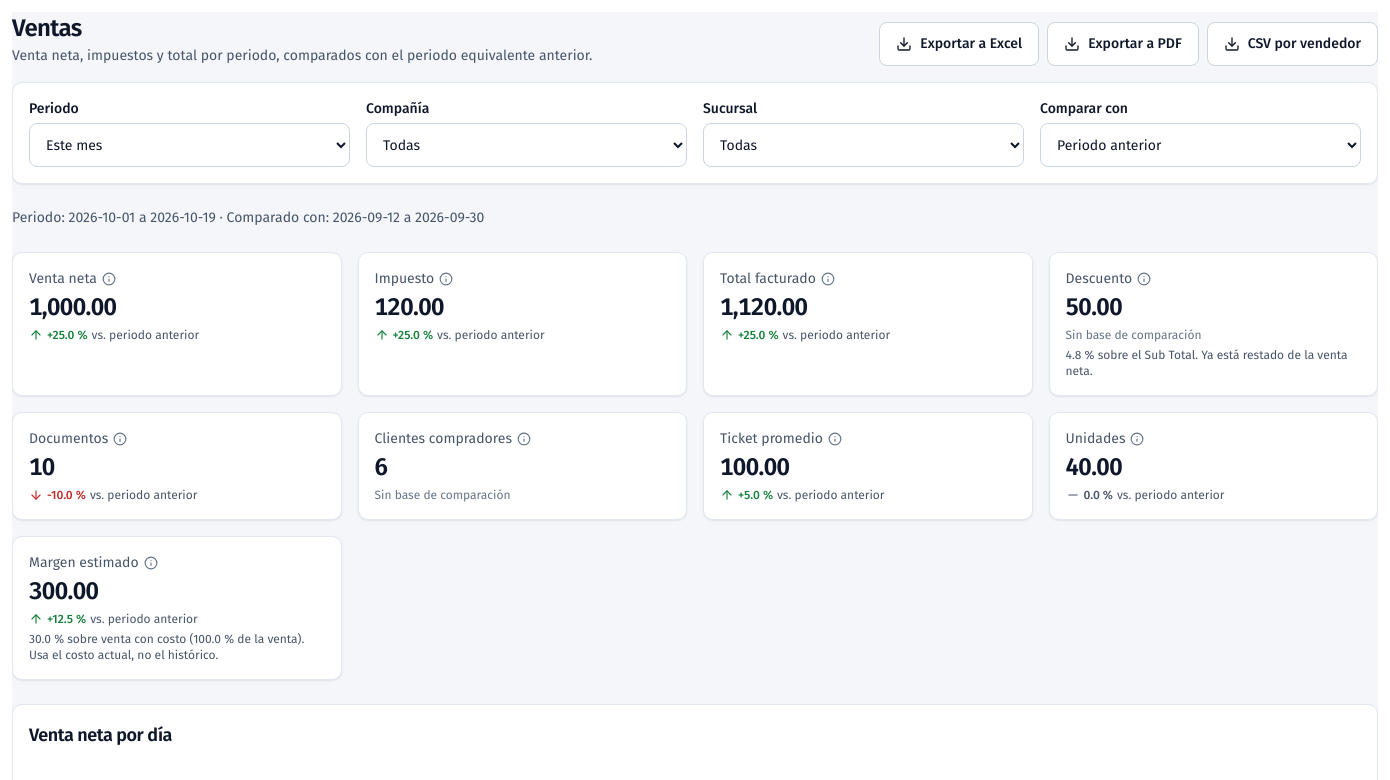
comparación de periodos › compara con el mismo periodo del año anterior
Select "Mismo periodo del año anterior" in the dropdown labelled "Comparar con" at (1200,145), box [1040,123,1361,167]
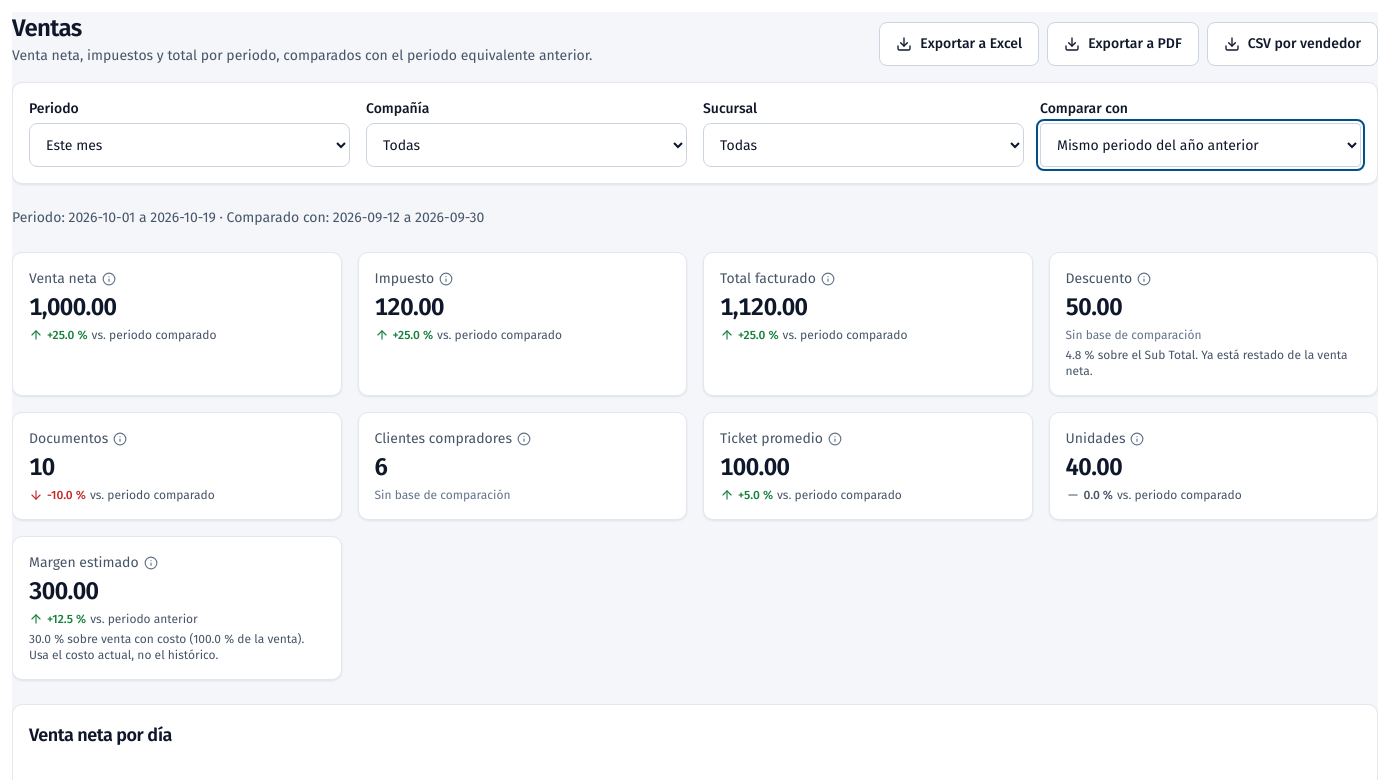
Expected: the text "Venta neta" shows "vs. periodo comparado", [92,328,216,342]
